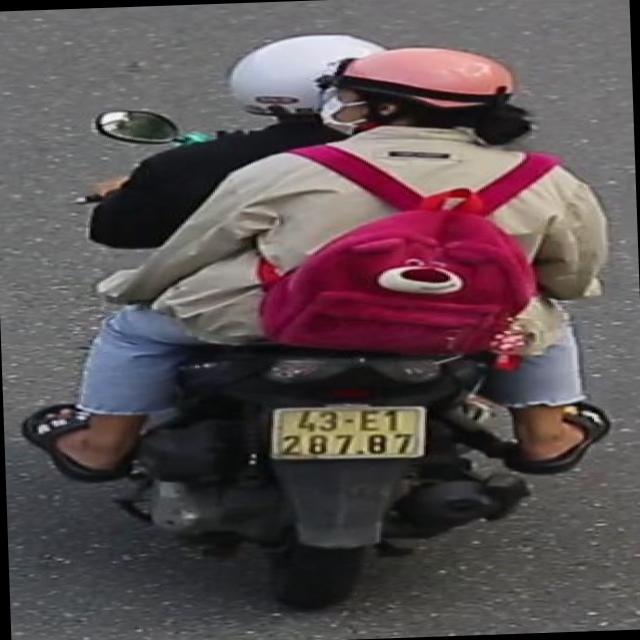LP: (263, 398, 439, 468)
helmet: (308, 41, 546, 161), (218, 22, 406, 118)
